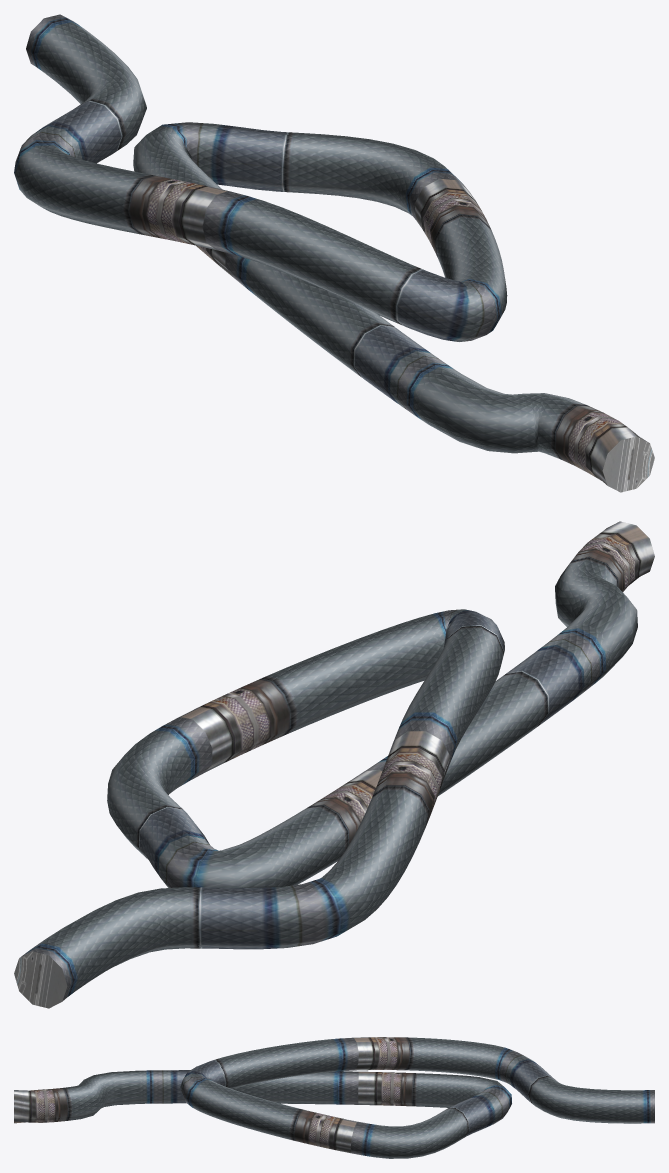
The model's file is SM_Hose3.fbx.
3 views of the same model, one above another, from view 1: azimuth 30°, elevation 25°; view 2: azimuth 150°, elevation 25°; view 3: azimuth 270°, elevation 25° (orthographic). The views are drawn at different scales.
Parts seen in each view (by area): view 1: SM_Hose3_LOD0; view 2: SM_Hose3_LOD0; view 3: SM_Hose3_LOD0.
Part boxes in pixels (box(x1,y1,x2,y2)): SM_Hose3_LOD0: box(14, 14, 654, 492); SM_Hose3_LOD0: box(14, 521, 654, 1008); SM_Hose3_LOD0: box(14, 1037, 654, 1158).
Size of the model in its own units: 66.71 by 200 by 19.59.
